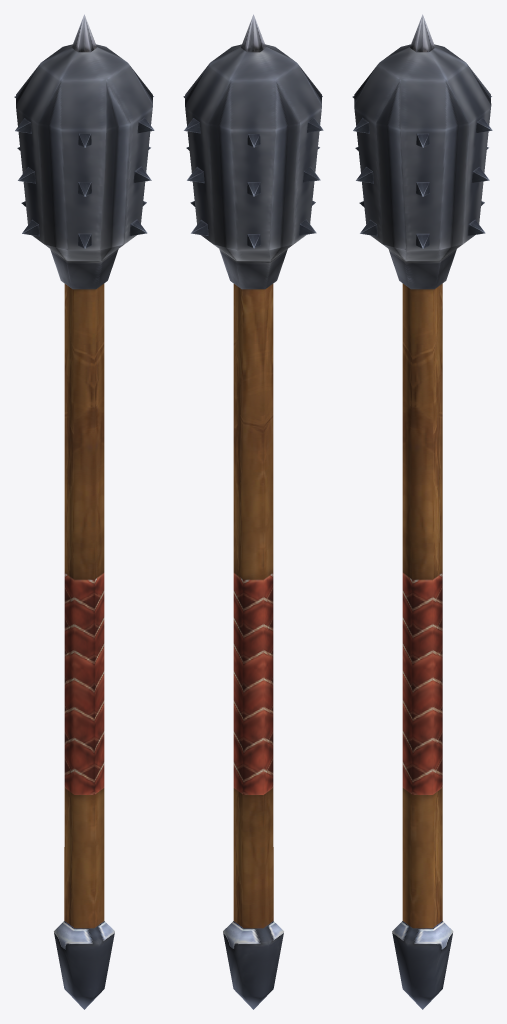
The model's file is Steel Mace1.FBX.
3 views of the same model, side by side, from view 1: azimuth 30°, elevation 25°; view 2: azimuth 210°, elevation 25°; view 3: azimuth 330°, elevation 25° (orthographic).
Parts seen in each view (by area): view 1: Steel Mace1; view 2: Steel Mace1; view 3: Steel Mace1.
Part boxes in pixels (bbox=[...]): Steel Mace1: bbox=[14, 14, 154, 1009]; Steel Mace1: bbox=[183, 14, 323, 1009]; Steel Mace1: bbox=[352, 14, 492, 1009].
Bounding box in the file's own units: 0.1988 × 1.35 × 0.1727.
